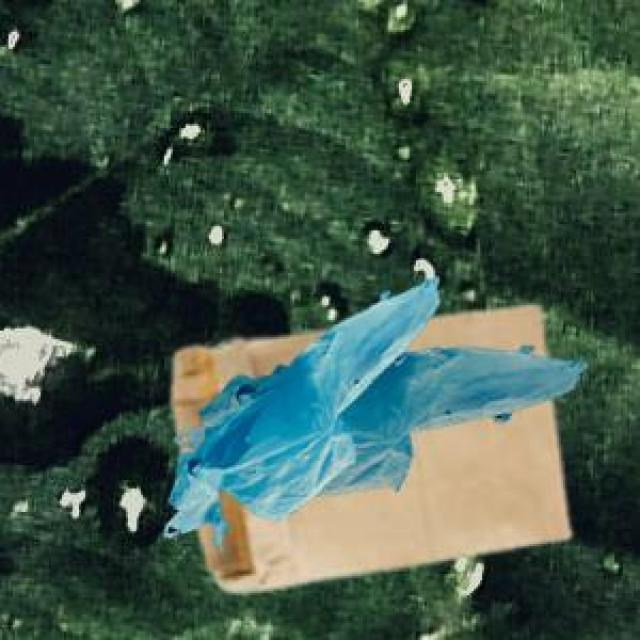paper: (169, 303, 565, 589)
